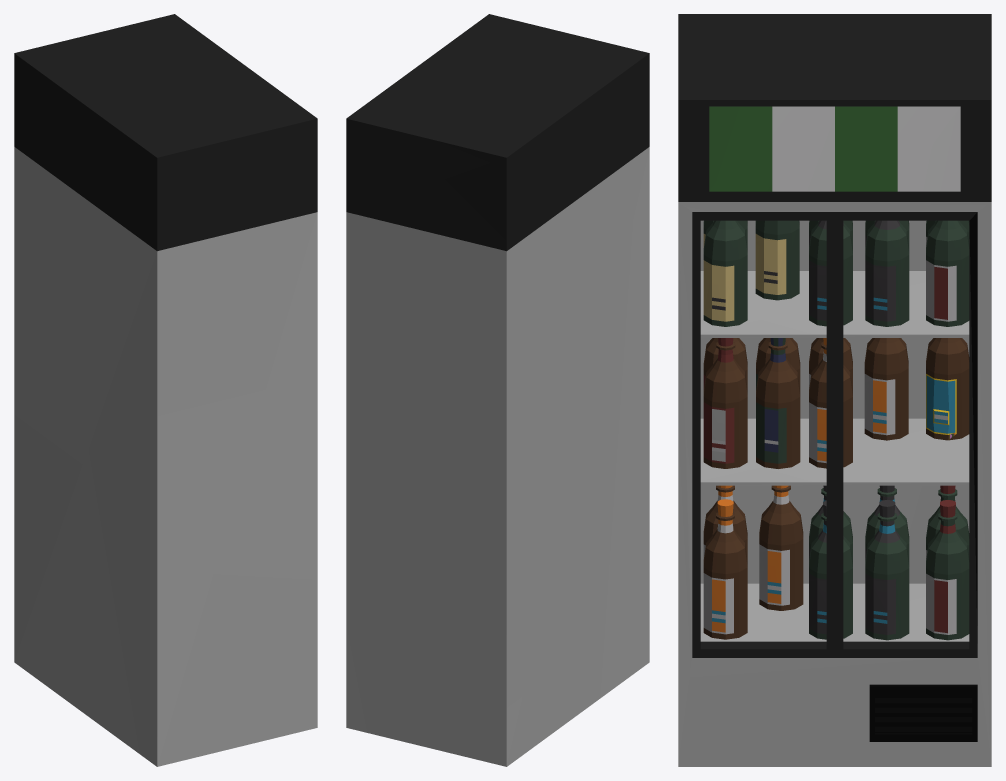
The model's file is SM_shopFreezer_03.glb.
3 renders of one model, left to right at view 1: azimuth 30°, elevation 25°; view 2: azimuth 150°, elevation 25°; view 3: azimuth 270°, elevation 25°, orthographic. The views are drawn at different scales.
Visible parts, largest first — view 1: SM_shopFreezer_03; view 2: SM_shopFreezer_03; view 3: SM_shopFreezer_03.
Boxes of the visible parts, box(x1,y1,x2,y2) form: SM_shopFreezer_03: box(14, 14, 317, 766); SM_shopFreezer_03: box(346, 14, 649, 766); SM_shopFreezer_03: box(678, 14, 991, 766).
Size of the model in its own units: 0.6614 by 2.34 by 0.9968.
Materials: 1 (1 with a texture image).
